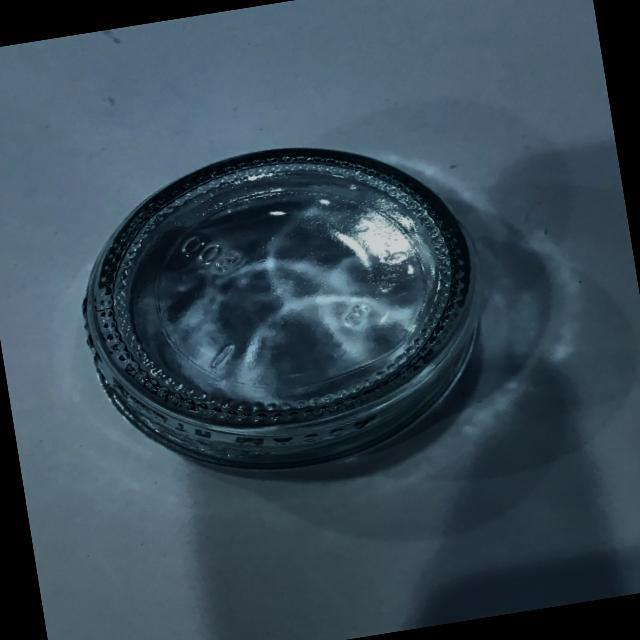glass: (41, 103, 536, 527)
